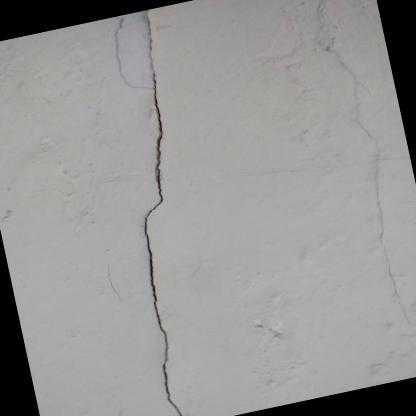crack: (144, 9, 189, 416)
